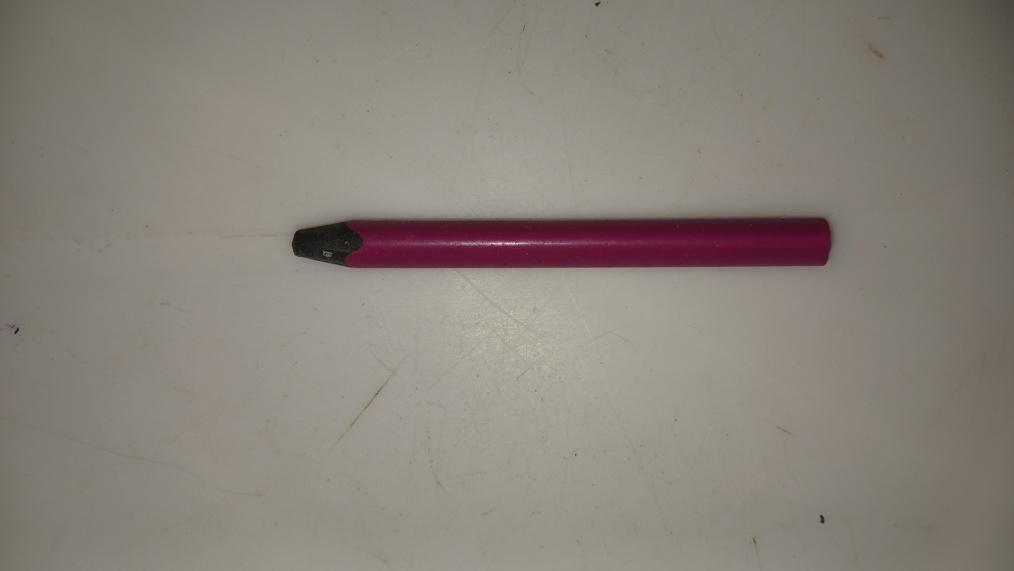Pencil: (293, 216, 834, 267)
